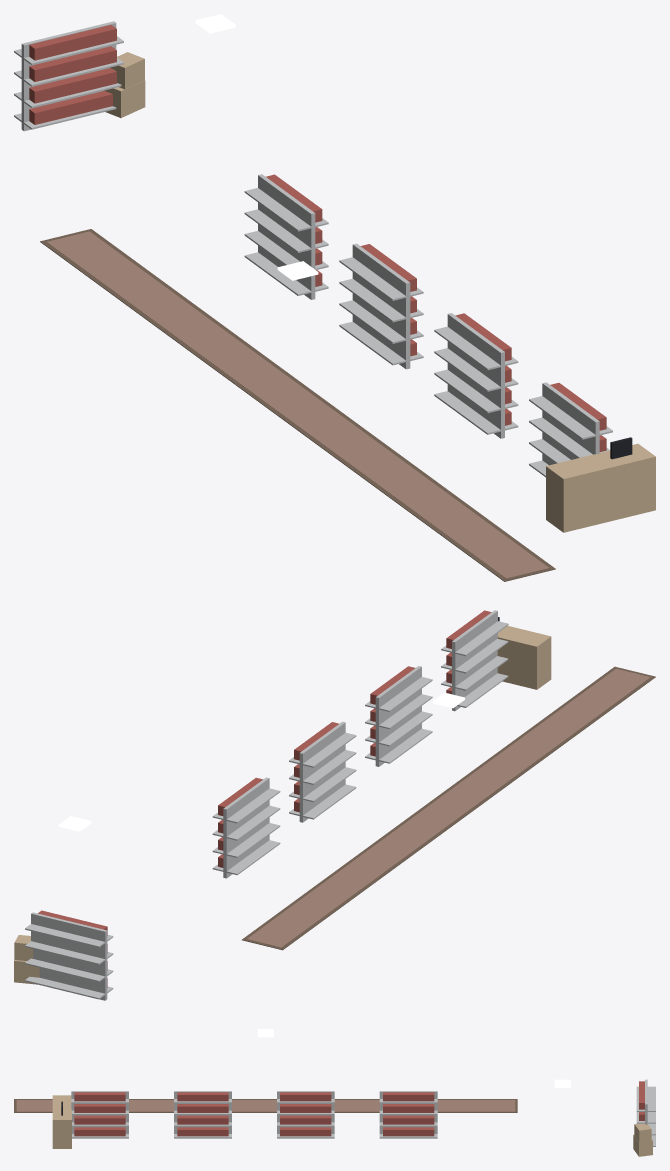
The model's file is fine-s0.glb.
3 renders of one model, top to bottom at view 1: azimuth 30°, elevation 25°; view 2: azimuth 150°, elevation 25°; view 3: azimuth 270°, elevation 25°, orthographic. The views are drawn at different scales.
Parts seen in each view (by area): view 1: soft-s0, shelving.000, shop-counter.000, shelf.001, shelf.002, shelf.000, shelf.003, cardboard-box.000; view 2: soft-s0, shelving.000, shelf.000, shelf.002, shelf.001, shelf.003, shop-counter.000, cardboard-box.000; view 3: soft-s0, shelf.000, shelf.001, shelf.002, shelf.003, shop-counter.000, shelving.000, cardboard-box.000.
Boxes of the visible parts, x1=… form: soft-s0: x1=40, y1=229, x2=555, y2=581; shelving.000: x1=14, y1=21, x2=123, y2=131; shop-counter.000: x1=546, y1=437, x2=655, y2=532; shelf.001: x1=339, y1=243, x2=423, y2=369; shelf.002: x1=434, y1=313, x2=518, y2=438; shelf.000: x1=244, y1=174, x2=328, y2=299; shelf.003: x1=529, y1=382, x2=612, y2=477; cardboard-box.000: x1=104, y1=52, x2=145, y2=117; soft-s0: x1=242, y1=666, x2=655, y2=950; shelving.000: x1=25, y1=910, x2=113, y2=1000; shelf.000: x1=212, y1=777, x2=280, y2=878; shelf.002: x1=365, y1=666, x2=432, y2=766; shelf.001: x1=289, y1=721, x2=356, y2=822; shelf.003: x1=441, y1=610, x2=508, y2=711; shop-counter.000: x1=497, y1=617, x2=551, y2=689; cardboard-box.000: x1=14, y1=935, x2=39, y2=984; soft-s0: x1=14, y1=1099, x2=517, y2=1112; shelf.000: x1=379, y1=1091, x2=437, y2=1138; shelf.001: x1=277, y1=1091, x2=334, y2=1138; shelf.002: x1=174, y1=1091, x2=231, y2=1138; shelf.003: x1=71, y1=1091, x2=128, y2=1138; shop-counter.000: x1=52, y1=1095, x2=71, y2=1148; shelving.000: x1=636, y1=1079, x2=655, y2=1146; cardboard-box.000: x1=633, y1=1123, x2=652, y2=1156.
Bounding box in the file's own units: 4.48 × 2.53 × 19.98.
